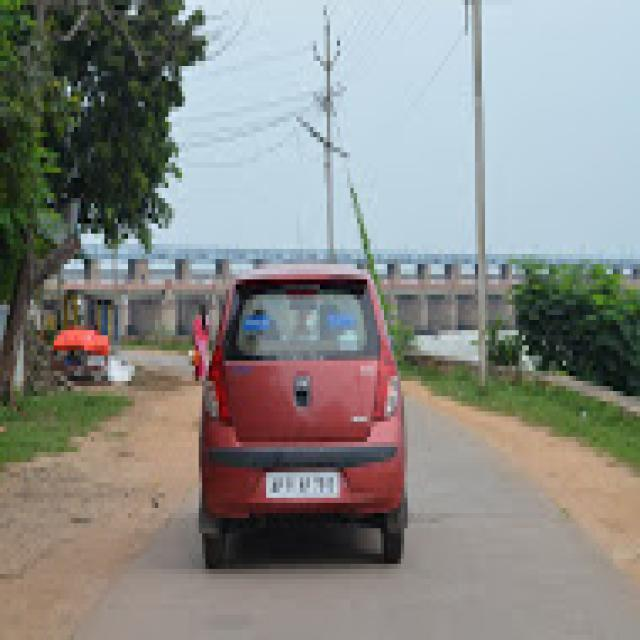car_back: (194, 251, 424, 578)
